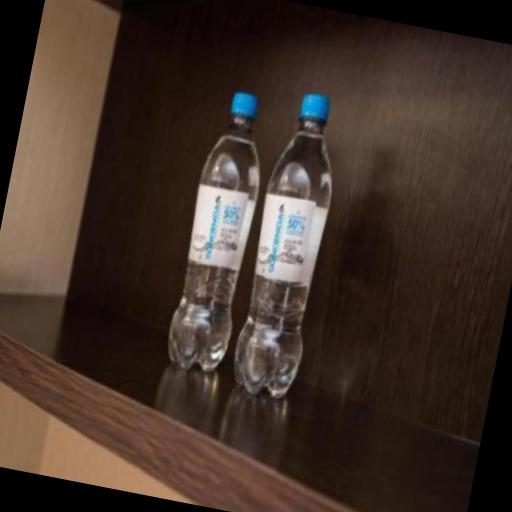Coca: (220, 78, 362, 417), (156, 78, 282, 384)
